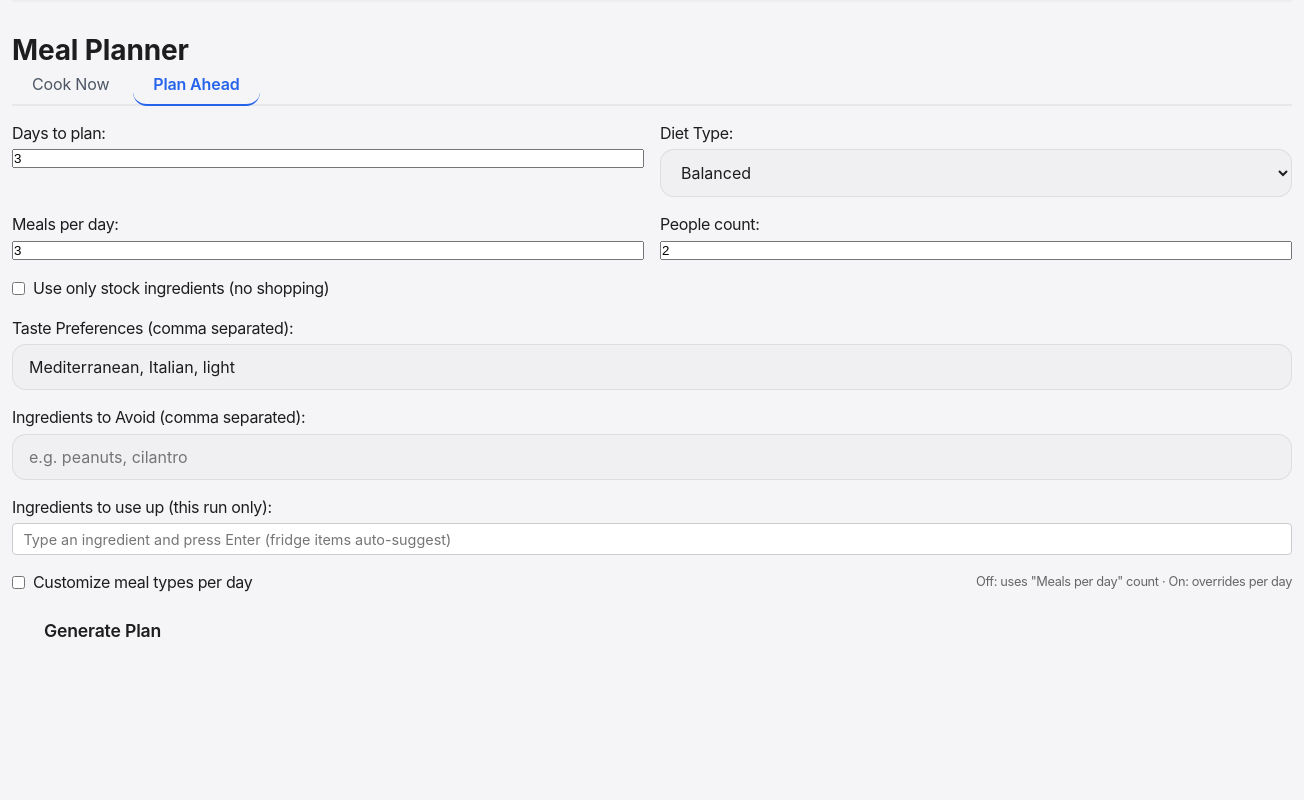
Test: MealPlanner › shows error on generation failure
Click the button "Generate Plan" at x=103, y=630, box [12,611,193,650]
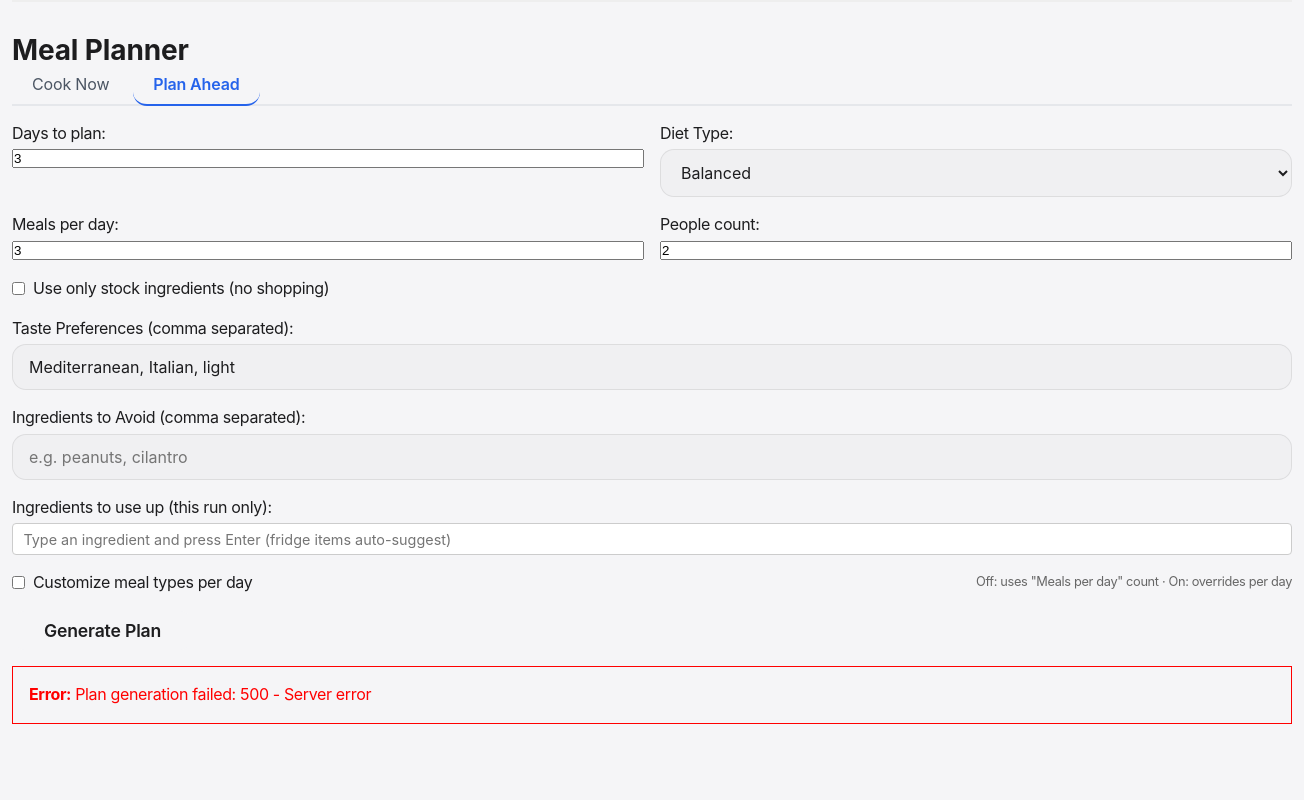
Result: the text "Error: Plan generation failed: 500 - Server error" is shown at [12,666,1292,724]
